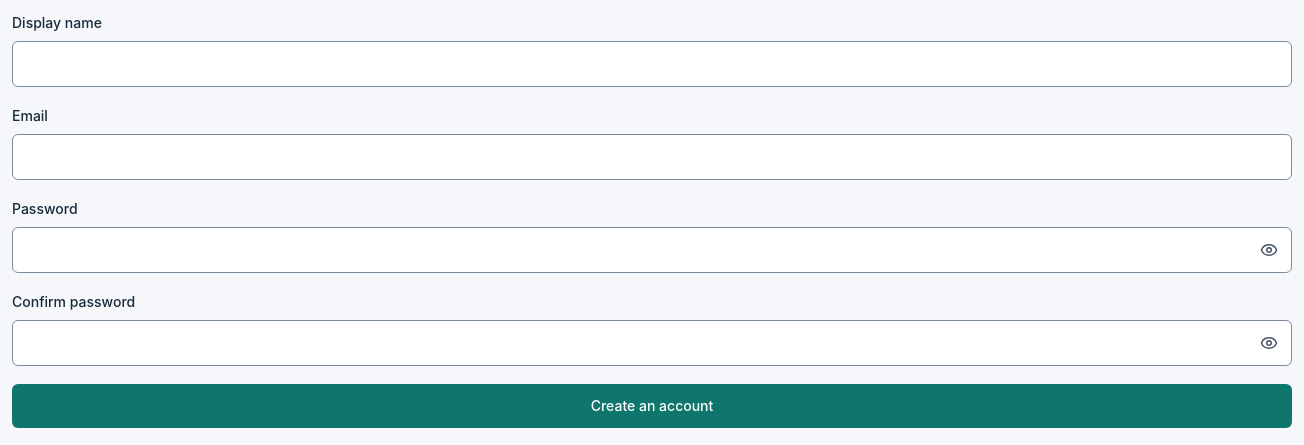
Test: toggles each registration password independently without changing values or submitting
Type "Fictional-pass-42" into the password field labelled "Password". click: (652, 250)
box: [12,227,1292,273]
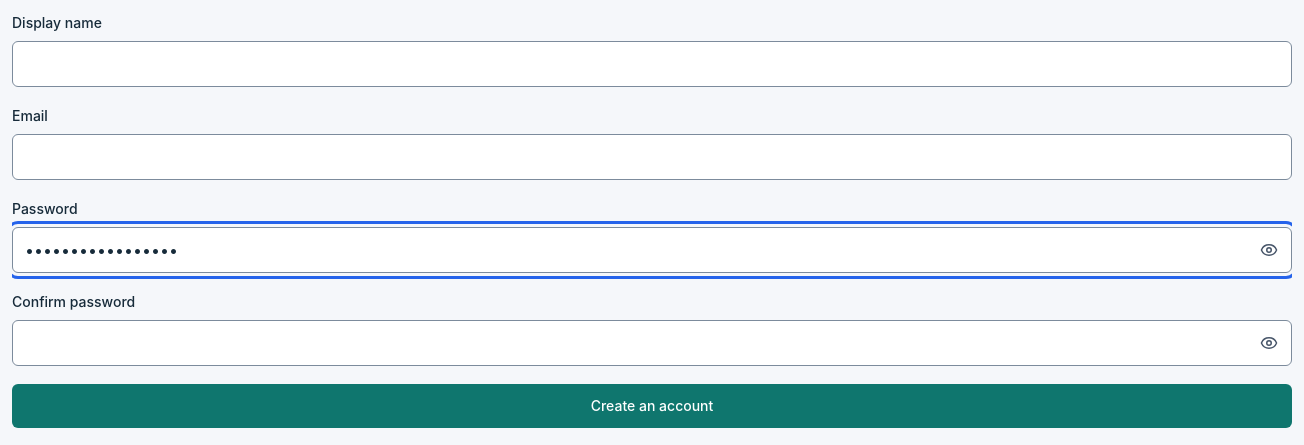
Type "Fictional-pass-42" into the password field labelled "Confirm password". click: (652, 343)
box: [12,320,1292,366]
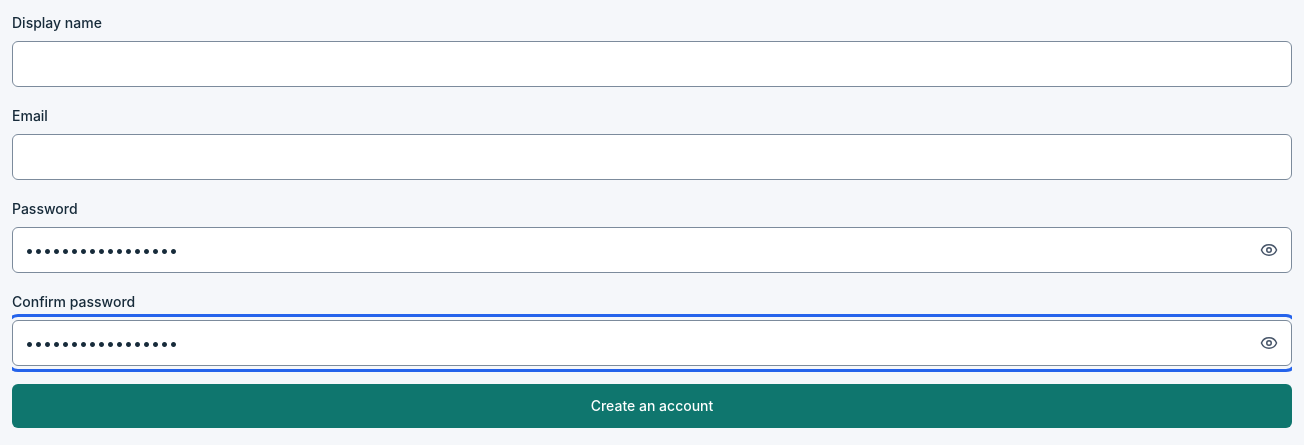
Click the button named "Show password". click: (1269, 250)
box: [1247,228,1291,272]
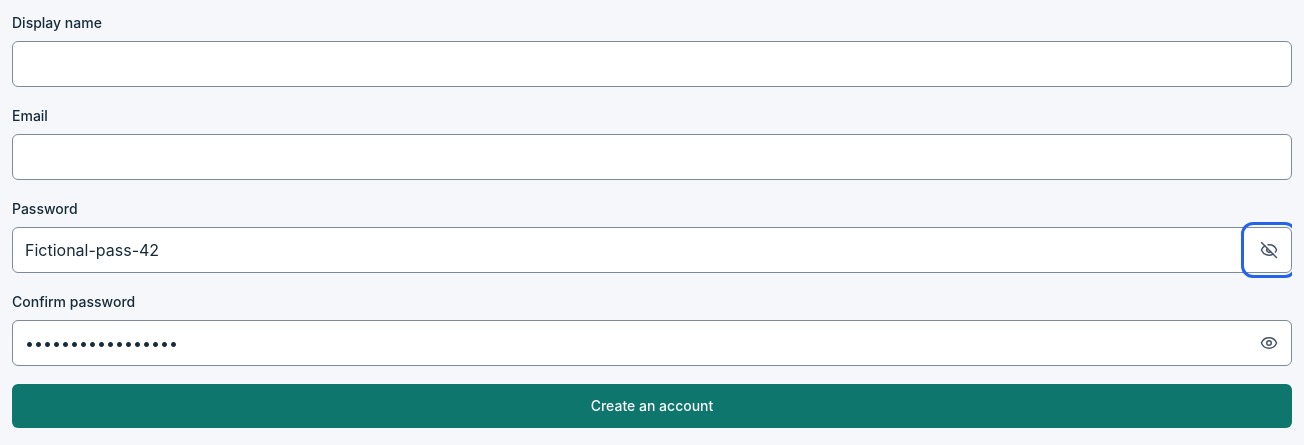
Expected: the field labelled "Password" shows its text, [12,227,1292,273]
Click the button named "Show password confirmation". click: (1269, 343)
box: [1247,321,1291,365]
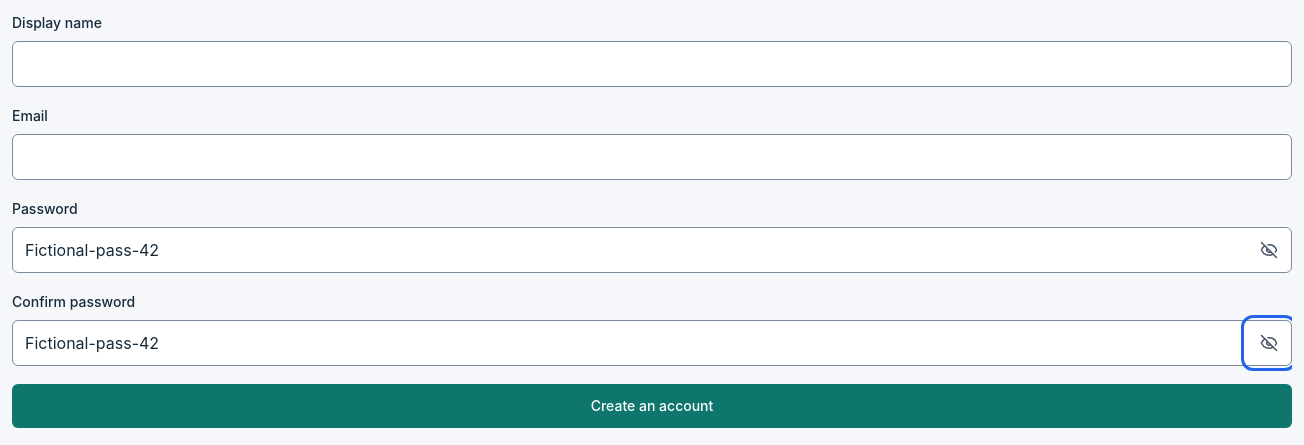
Expected: the field labelled "Confirm password" shows its text, [12,320,1292,366]
Click the button named "Hide password". click: (1269, 250)
box: [1247,228,1291,272]
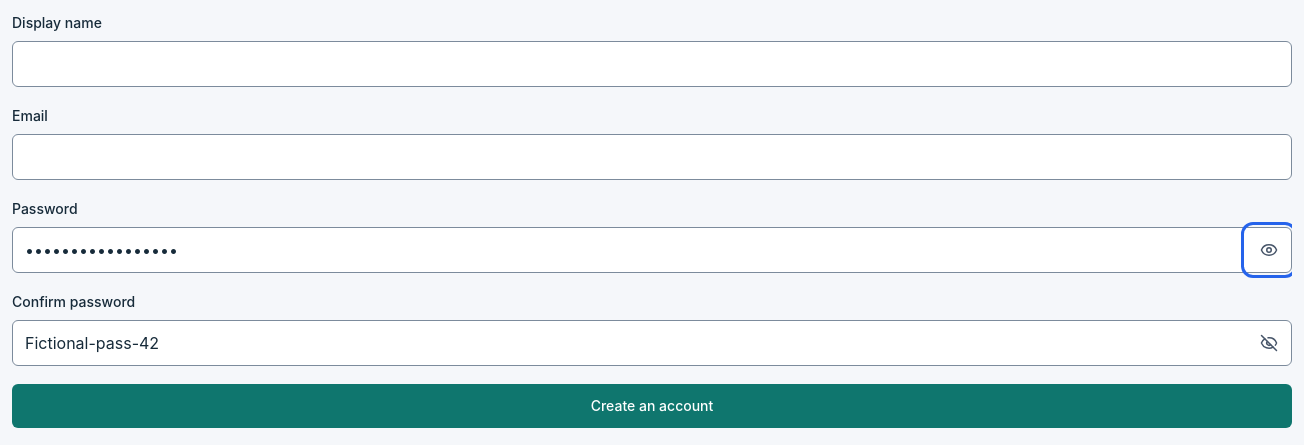
Expected: the password field labelled "Password" hides its text, [12,227,1292,273]
